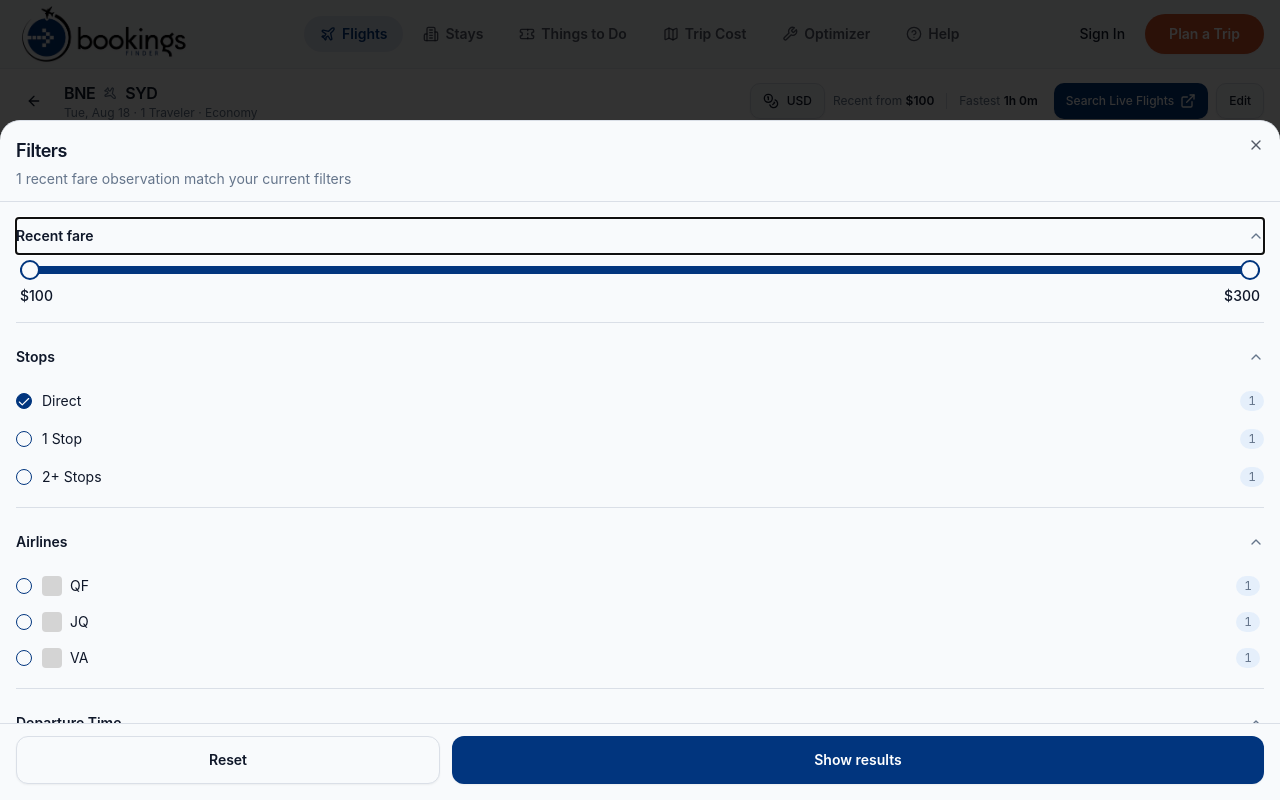
Test case: mobile flight results — draft, apply and discard › Reset clears the draft without touching applied results
This screenshot has width=1280, height=800.
Earlier steps of the test are not shown.
Step 1. Click the button "Reset" → (228, 760), box left=16, top=736, right=440, bottom=784
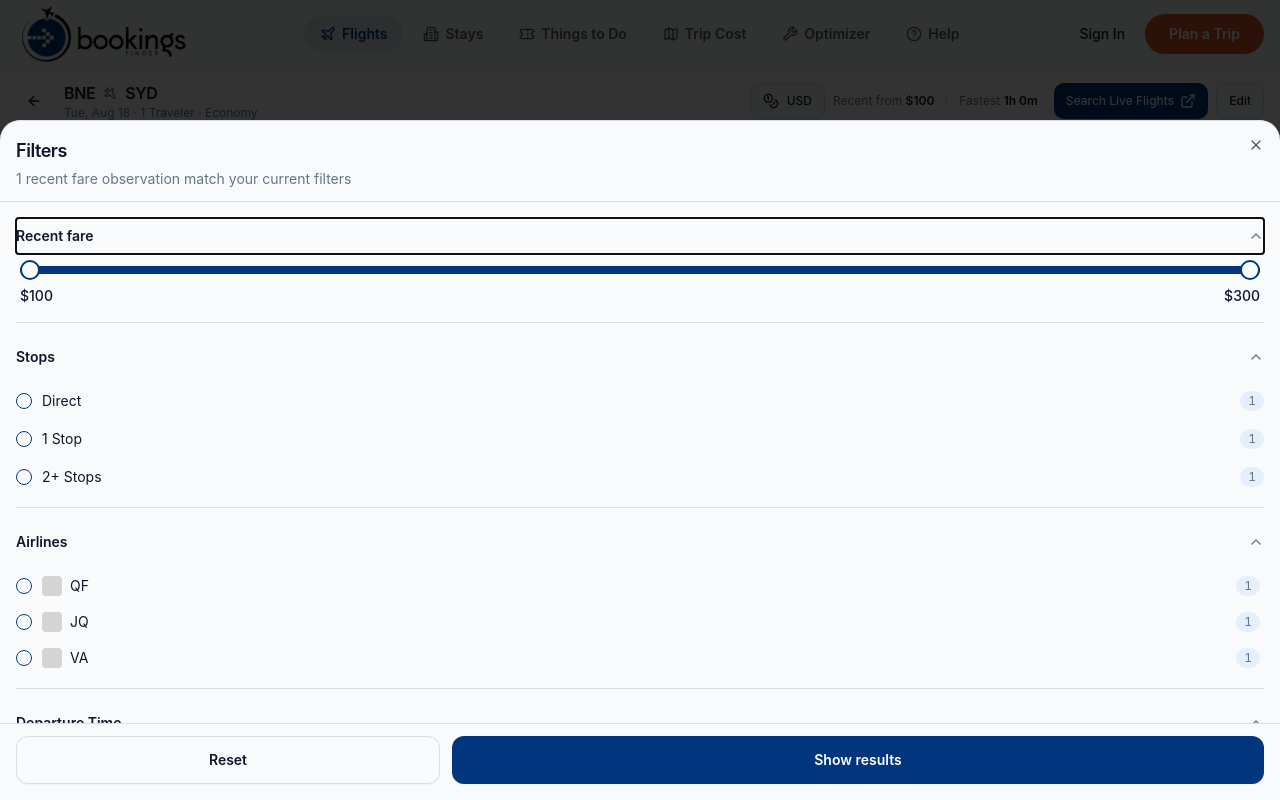
Expected: the 1st checkbox has attribute data-state="unchecked", left=16, top=393, right=32, bottom=409
